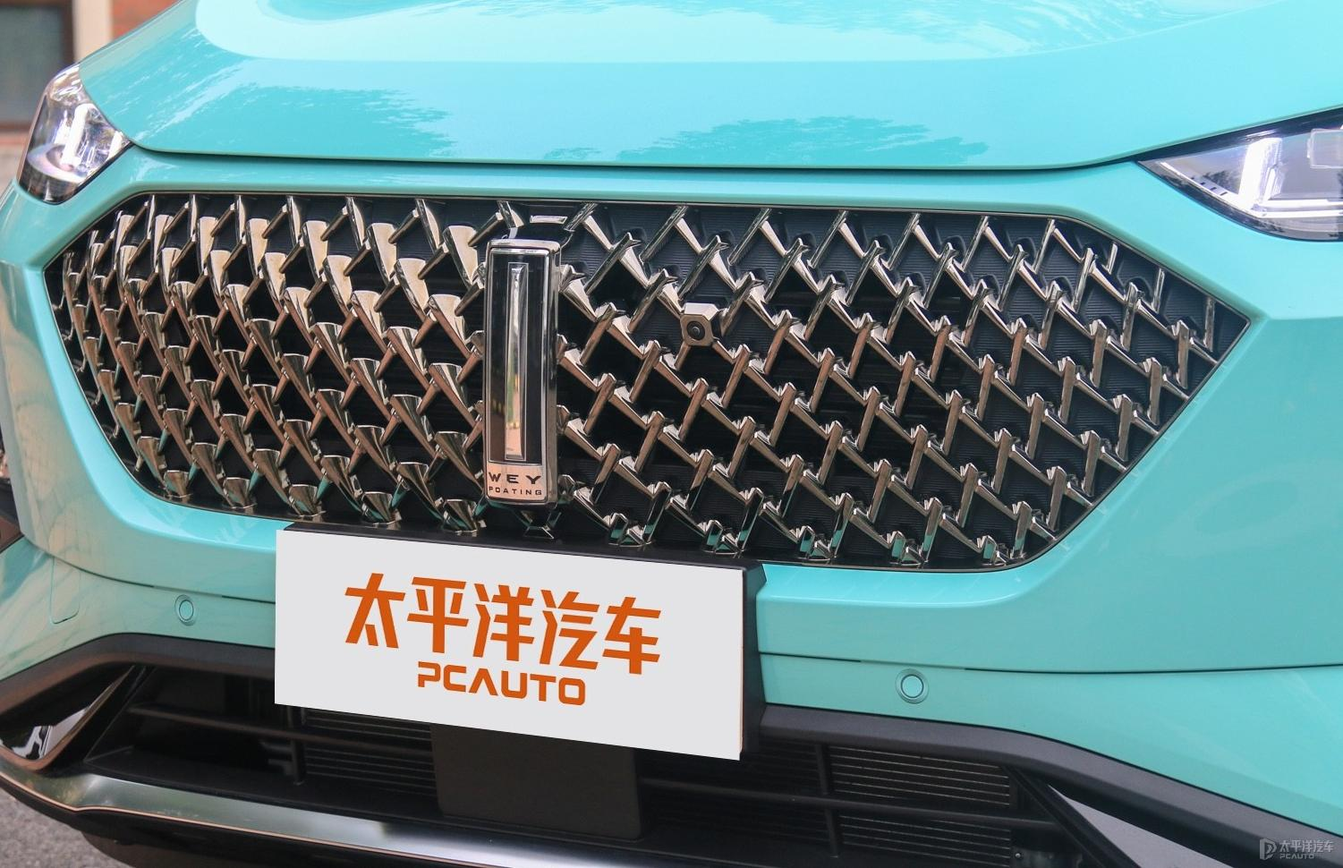WEY: (488, 242, 558, 498)
